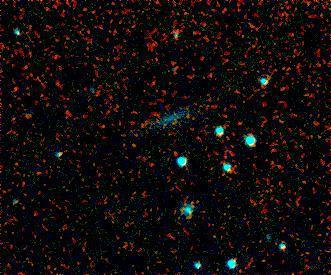star: (141, 79, 171, 109)
